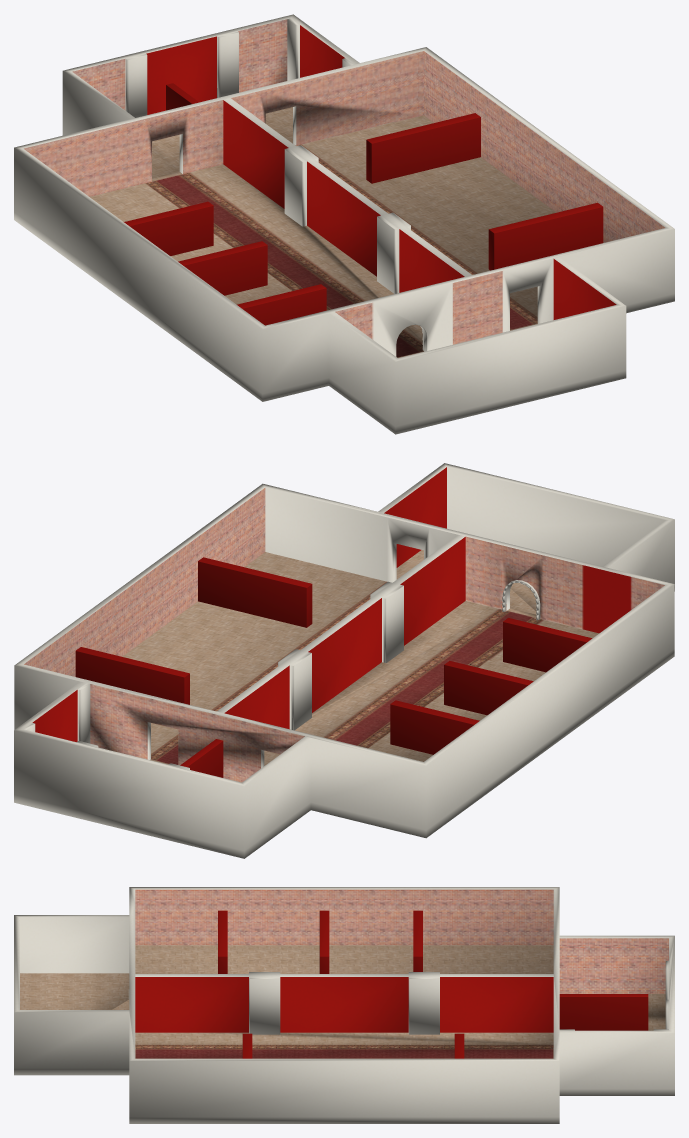
File: home.glb
The picture shows the model from 3 angles, top to bottom: view 1: azimuth 30°, elevation 25°; view 2: azimuth 150°, elevation 25°; view 3: azimuth 270°, elevation 25°; orthographic projection. The views are drawn at different scales.
Parts seen in each view (by area): view 1: дом.001; view 2: дом.001; view 3: дом.001.
Part boxes in pixels (x1,y1,x2,y2): дом.001: (14, 14, 674, 434); дом.001: (14, 463, 674, 858); дом.001: (14, 887, 674, 1123).
Bounding box in the file's own units: 53.62 × 9 × 86.
Materials: 1 (1 with a texture image).
